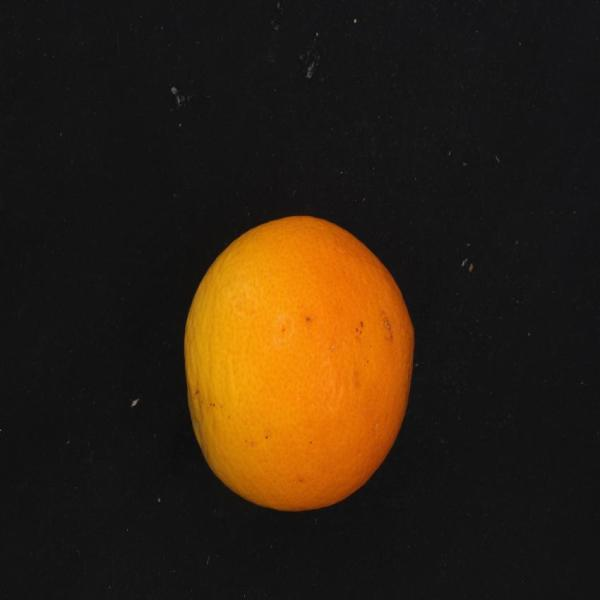Sana: (165, 192, 427, 515)
